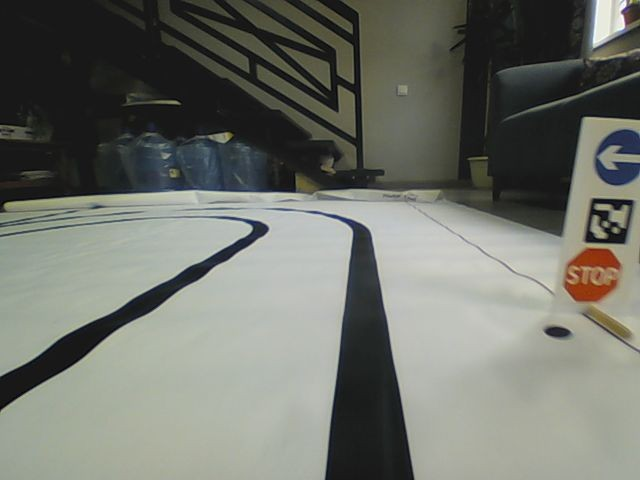Stop: (563, 248, 622, 303)
